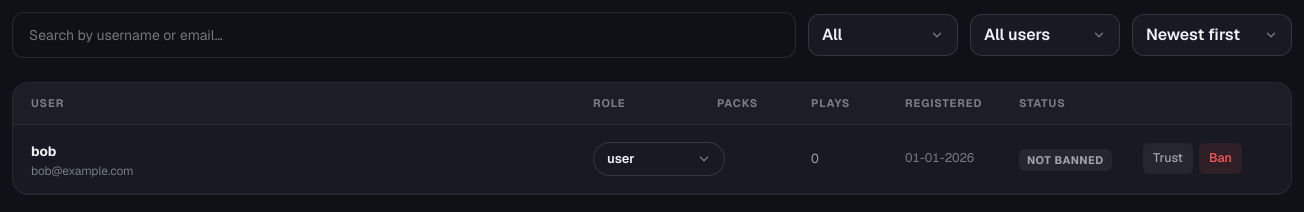
Test: UsersTab › shows a Trust button for an untrusted target and marks them trusted on click
The width and height of the screenshot is (1304, 212).
Expected: the text "bob" is shown, 31,140 -> 56,161
Click the button "Trust".
click(1168, 158)  # box 1143,143 -> 1193,174
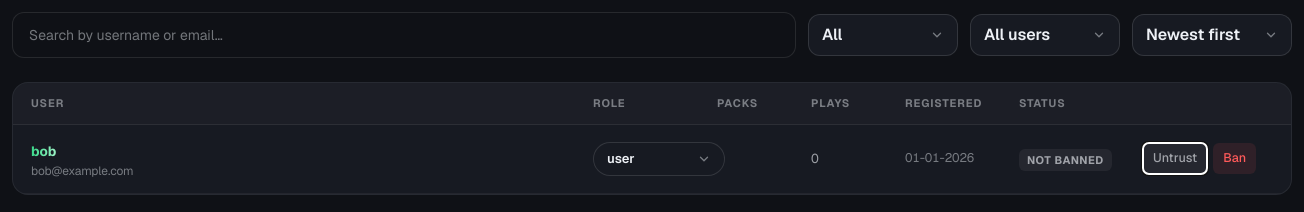
Expected: the button "Untrust" is shown, 1143,143 -> 1207,174
